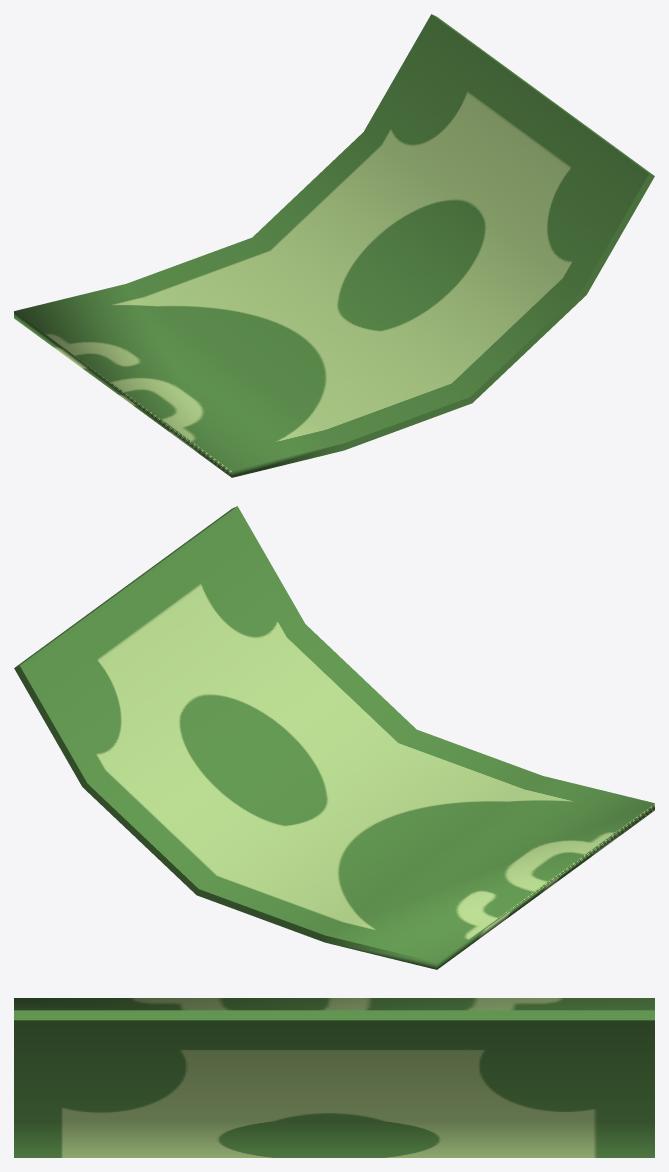
The model's file is CashSliced.fbx.
3 views of the same model, one above another, from view 1: azimuth 30°, elevation 25°; view 2: azimuth 150°, elevation 25°; view 3: azimuth 270°, elevation 25° (orthographic). The views are drawn at different scales.
Visible parts, largest first — view 1: Cash; view 2: Cash; view 3: Cash.
Boxes of the visible parts, x1,y1,x2,y2 form: Cash: [14, 14, 654, 477]; Cash: [14, 506, 654, 969]; Cash: [14, 998, 654, 1157].
Size of the model in its own units: 86.62 by 39.62 by 77.28.
1 material, 1 textured.
